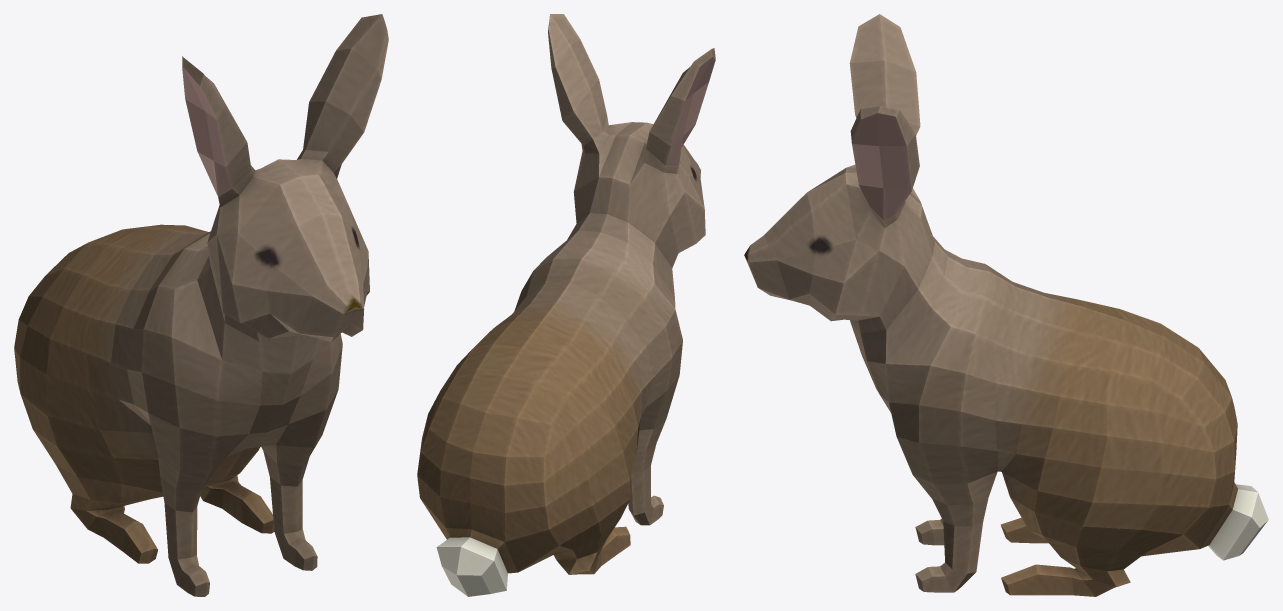
The model's file is rabbit.glb.
The picture shows the model from 3 angles, left to right: view 1: azimuth 30°, elevation 25°; view 2: azimuth 150°, elevation 25°; view 3: azimuth 270°, elevation 25°; orthographic projection. The views are drawn at different scales.
Parts seen in each view (by area): view 1: rabbit; view 2: rabbit; view 3: rabbit.
Boxes of the visible parts, box(x1,y1,x2,y2) form: rabbit: box(14, 14, 388, 596); rabbit: box(417, 14, 715, 596); rabbit: box(744, 14, 1268, 596).
Size of the model in its own units: 0.1353 by 0.32 by 0.2992.
1 material, 1 textured.
